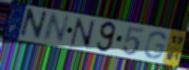5: (122, 25, 146, 56)
9: (95, 20, 118, 53)
G: (143, 31, 168, 60)
N: (17, 8, 49, 42), (40, 12, 72, 44), (69, 17, 96, 49)
